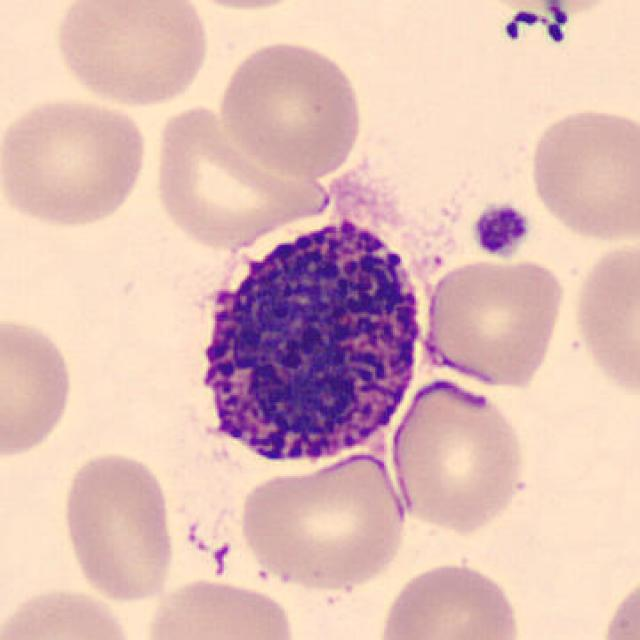Basophil: (178, 202, 432, 480)
Platelets: (469, 201, 534, 261)
RBC: (147, 99, 329, 250), (235, 452, 412, 594), (386, 374, 532, 536), (213, 37, 368, 178), (2, 92, 151, 231), (419, 254, 569, 390), (57, 448, 179, 605), (49, 0, 213, 109), (524, 102, 638, 244), (375, 557, 526, 640), (569, 234, 640, 404), (0, 312, 78, 462), (142, 575, 299, 640), (0, 583, 142, 640), (598, 569, 638, 640), (169, 0, 318, 14), (535, 0, 628, 18)
